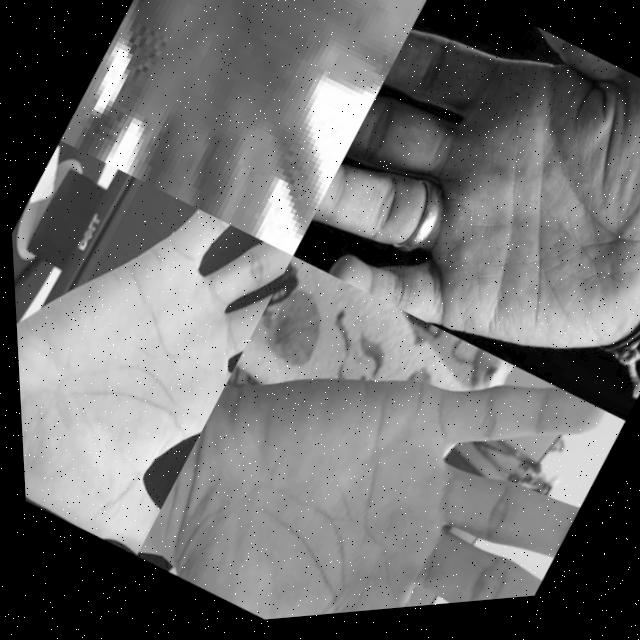hand: (117, 238, 626, 633), (278, 0, 640, 447), (7, 147, 300, 564), (56, 0, 444, 276)
